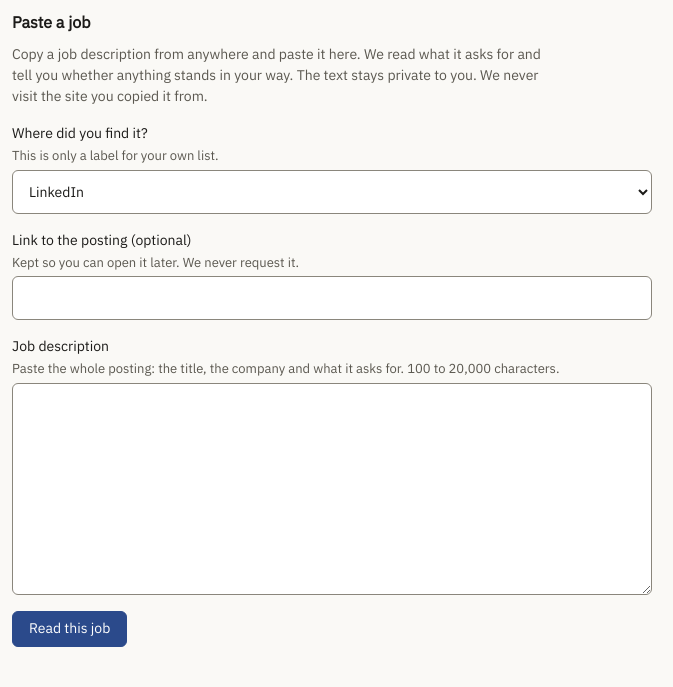
Test: PasteJobForm › refuses a posting that is too short and focuses nothing it did not check
Type "too short" into the text box labelled "Job description" at (332, 488), box [12,382,652,594]
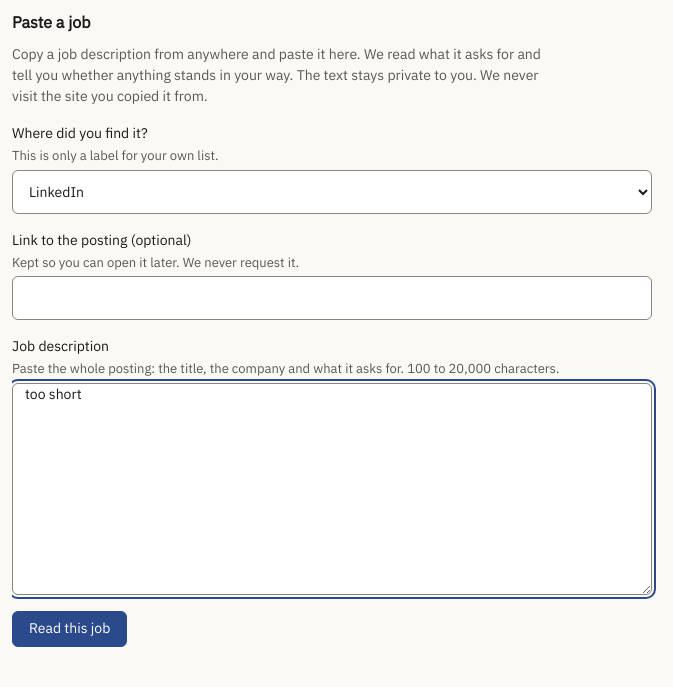
Click the button "Read this job" at (70, 628), box [12,610,127,646]
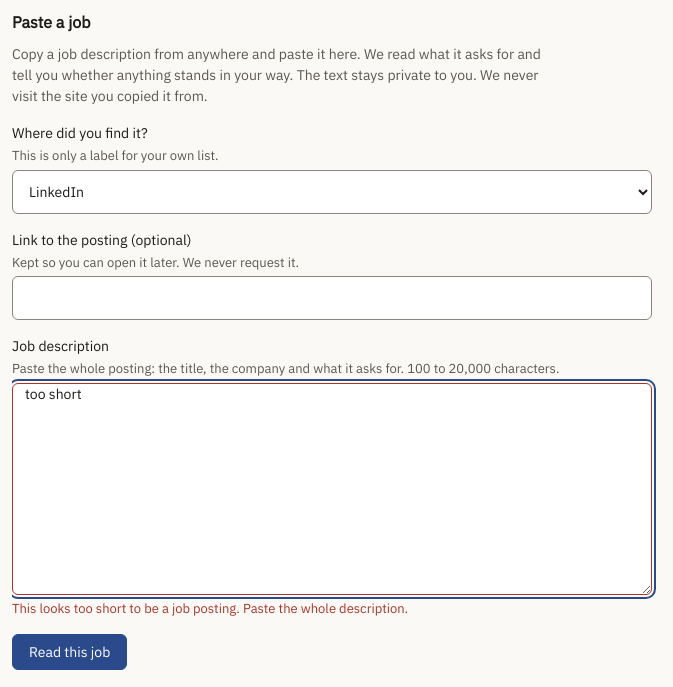
Check: the text "looks too short to be a job posting" is shown, box [12,600,408,616]
